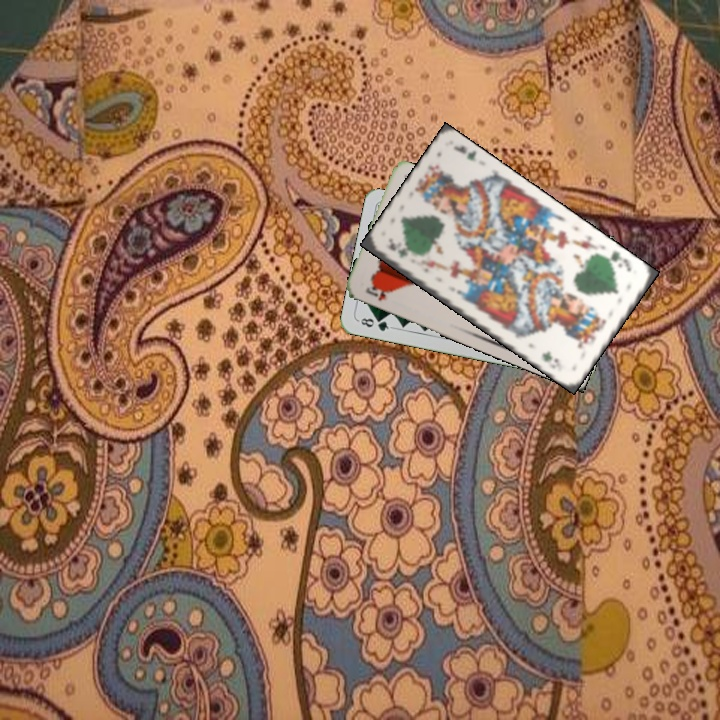G8: (355, 314, 395, 334)
GK: (601, 247, 634, 275), (382, 235, 411, 261)
HO: (362, 281, 395, 303)
